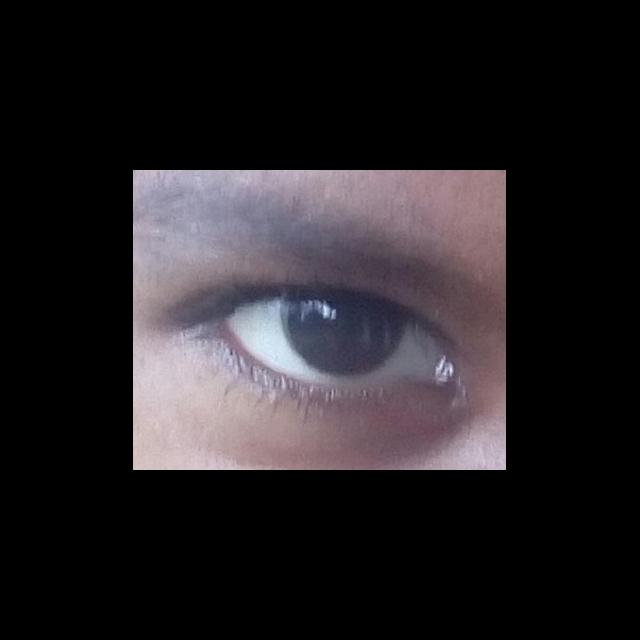eye: (227, 291, 440, 387)
iris: (281, 292, 413, 377)
